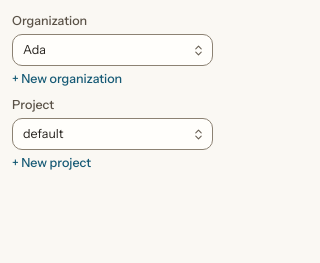
Scenario: creating an organization › says so when the org was created but reading the account again fails
The width and height of the screenshot is (320, 263).
Click the button "+ New organization" at [67, 79], box [12,70,122,88]
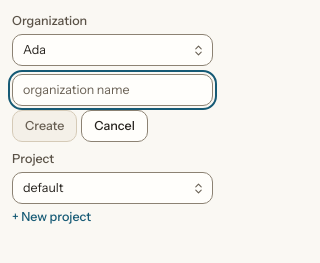
Type "Robotics" into the field named "New organization name" at [112, 90], box [12,74,213,106]
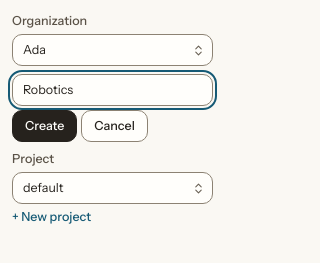
Click the button "Create" at [45, 126], box [12,110,77,142]
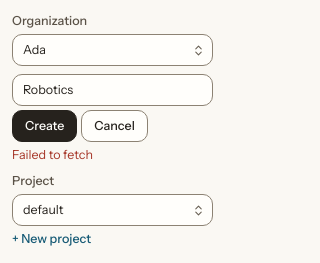
Expected: the text "Failed to fetch" is shown, [12,147,93,162]
